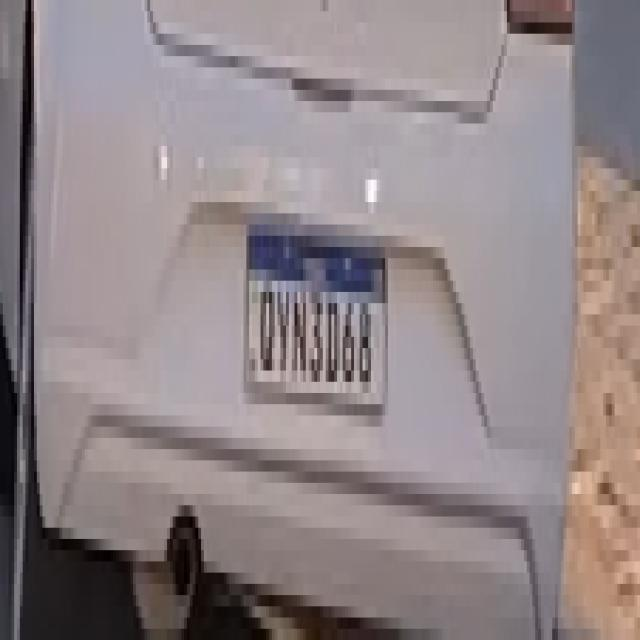Placa_mercosul_carro: (245, 221, 389, 409)
